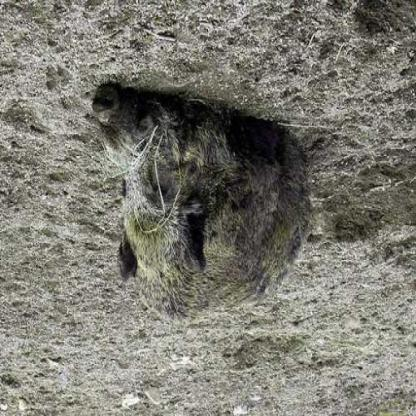boar: (97, 79, 325, 341)
